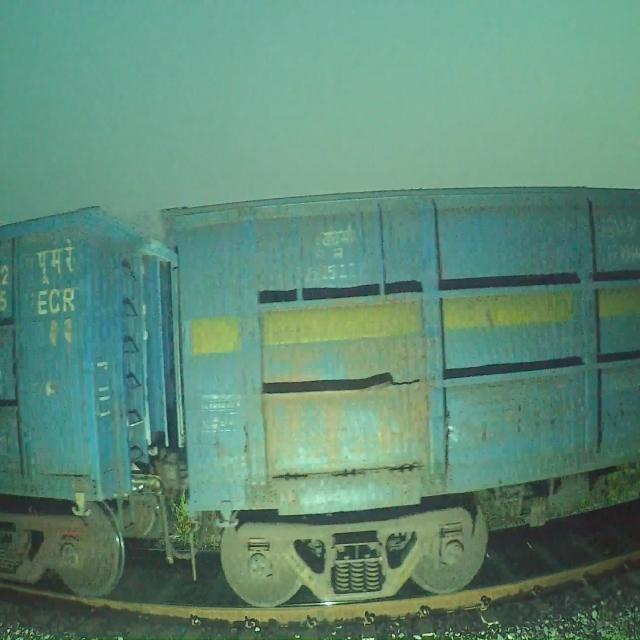WAgon-uic: (155, 178, 640, 611), (0, 198, 211, 602)
uic: (0, 255, 14, 323)
